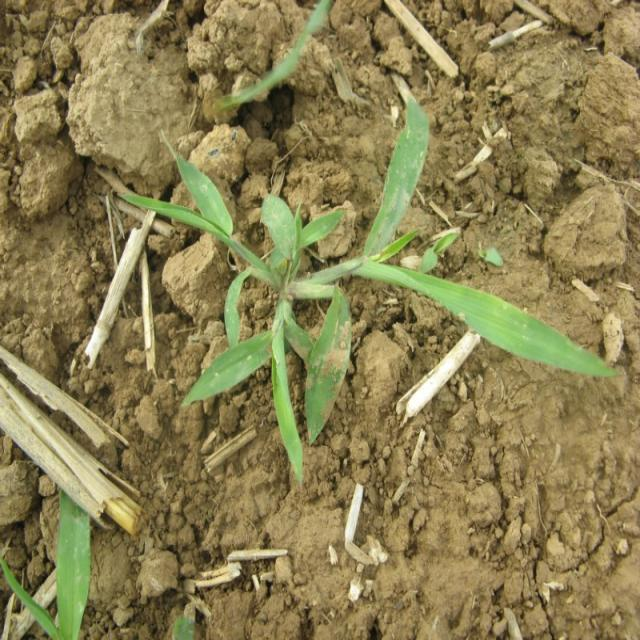bg: (116, 99, 611, 464)
